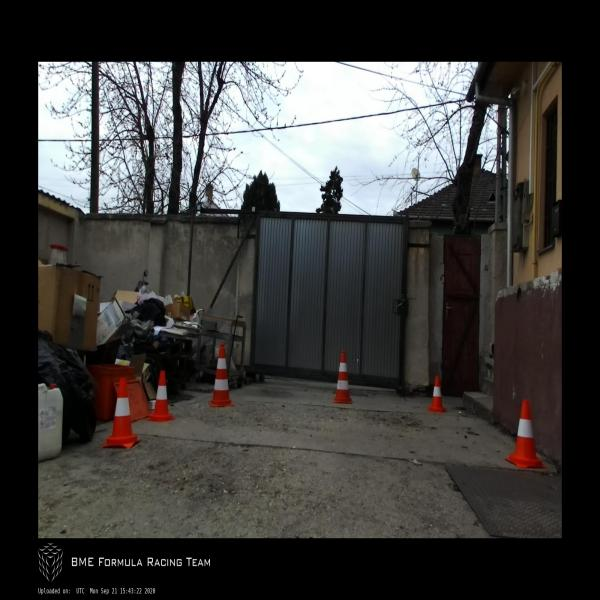large_orange_cone: (208, 343, 234, 407), (332, 350, 352, 404)
orange_cone: (504, 400, 548, 468), (102, 379, 141, 449), (146, 371, 176, 422), (427, 376, 448, 413)
